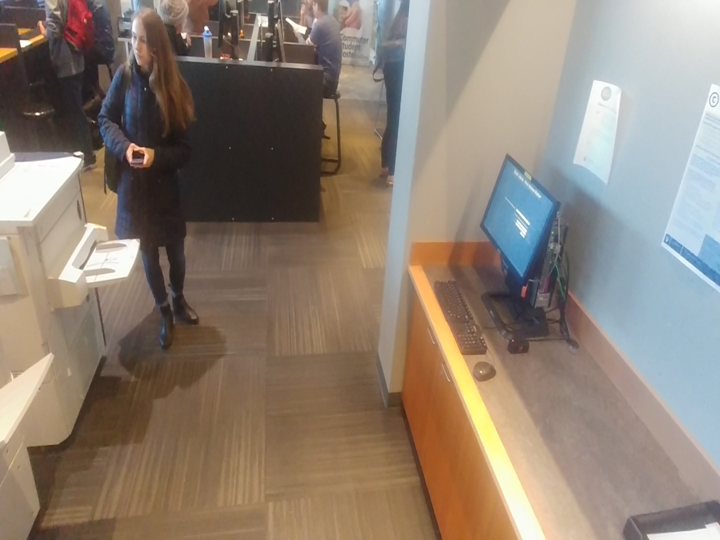face: (124, 7, 175, 80), (306, 0, 330, 23)
human: (91, 7, 208, 352), (30, 0, 100, 176), (370, 0, 412, 190), (300, 0, 349, 109)
